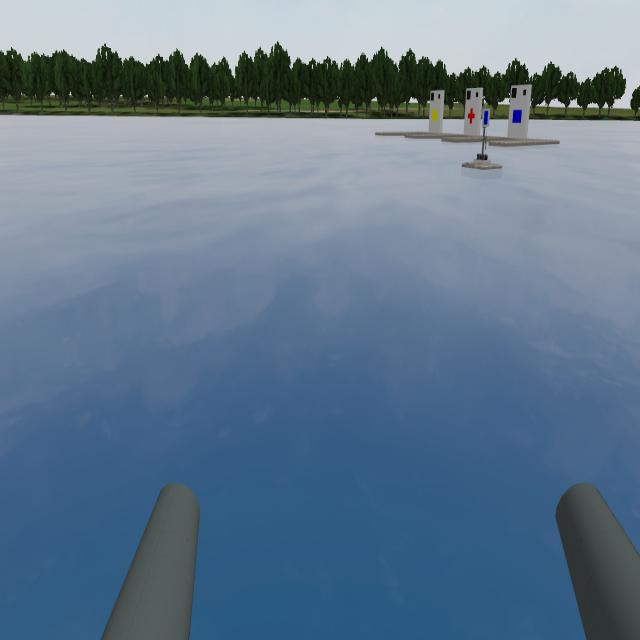blue_pole: (478, 103, 497, 131)
